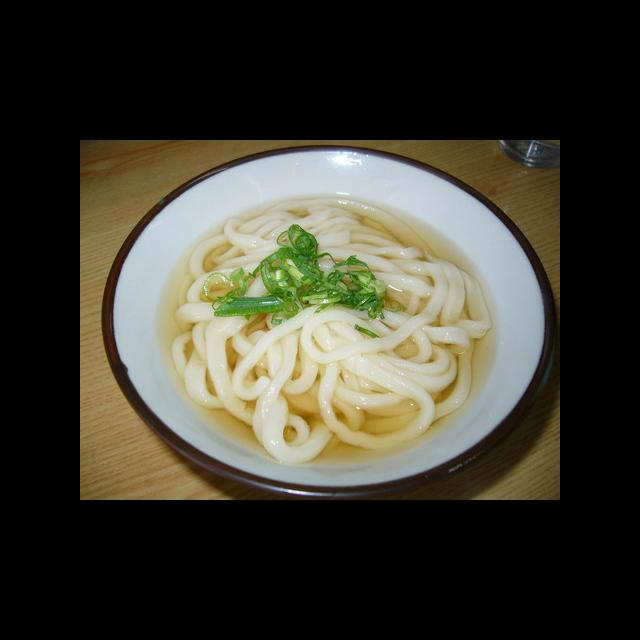noodles: (173, 196, 495, 463)
